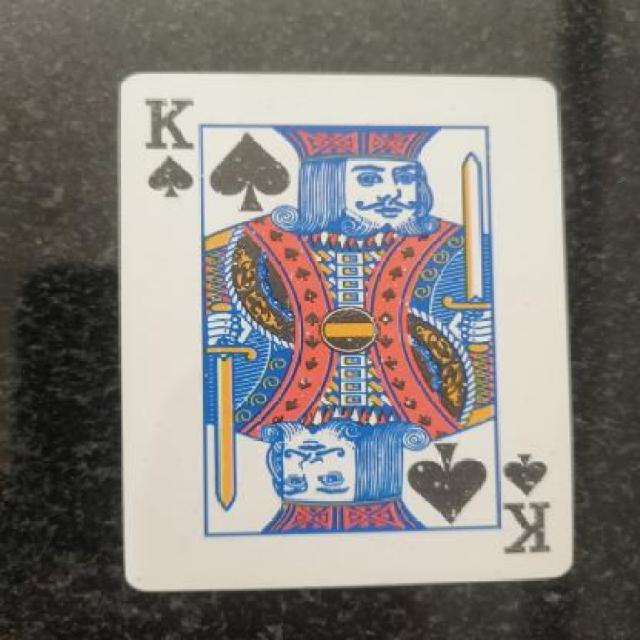KS: (492, 436, 574, 575), (125, 89, 212, 208)
